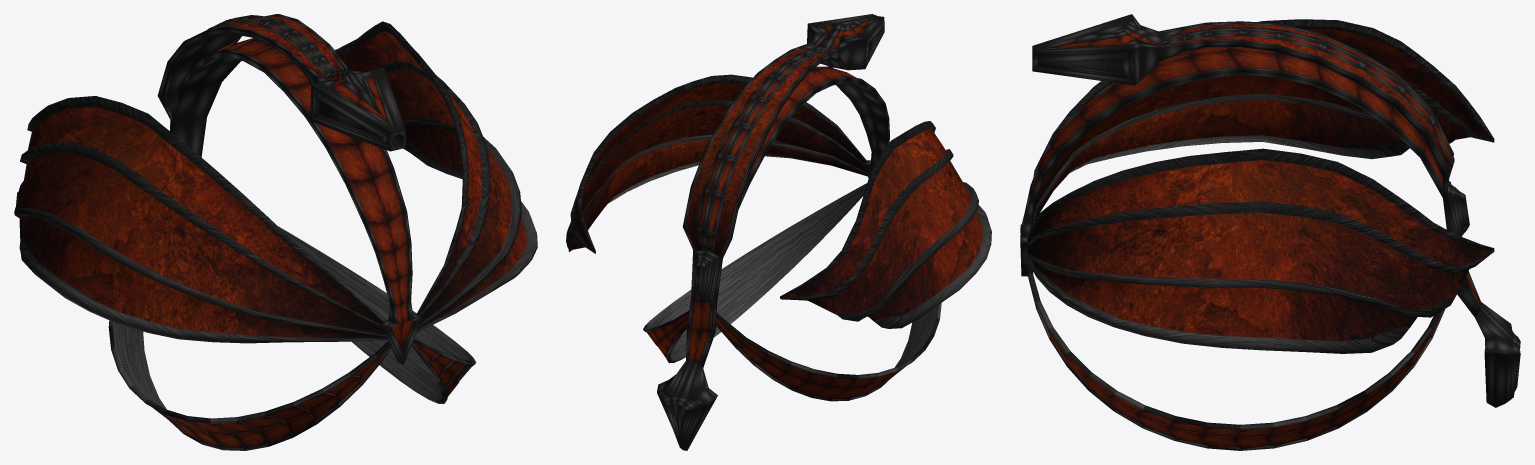
File: _newDragonTextured.fbx
3 views of the same model, side by side, from view 1: azimuth 30°, elevation 25°; view 2: azimuth 150°, elevation 25°; view 3: azimuth 270°, elevation 25° (orthographic). The views are drawn at different scales.
Visible parts, largest first — view 1: dragon_rig; view 2: dragon_rig; view 3: dragon_rig.
Part boxes in pixels (<box>): dragon_rig: <box>14,14,537,450</box>; dragon_rig: <box>566,14,991,450</box>; dragon_rig: <box>1020,14,1520,450</box>.
Bounding box in the file's own units: 19.55 × 16.63 × 19.59.
3 materials, 2 textured.
